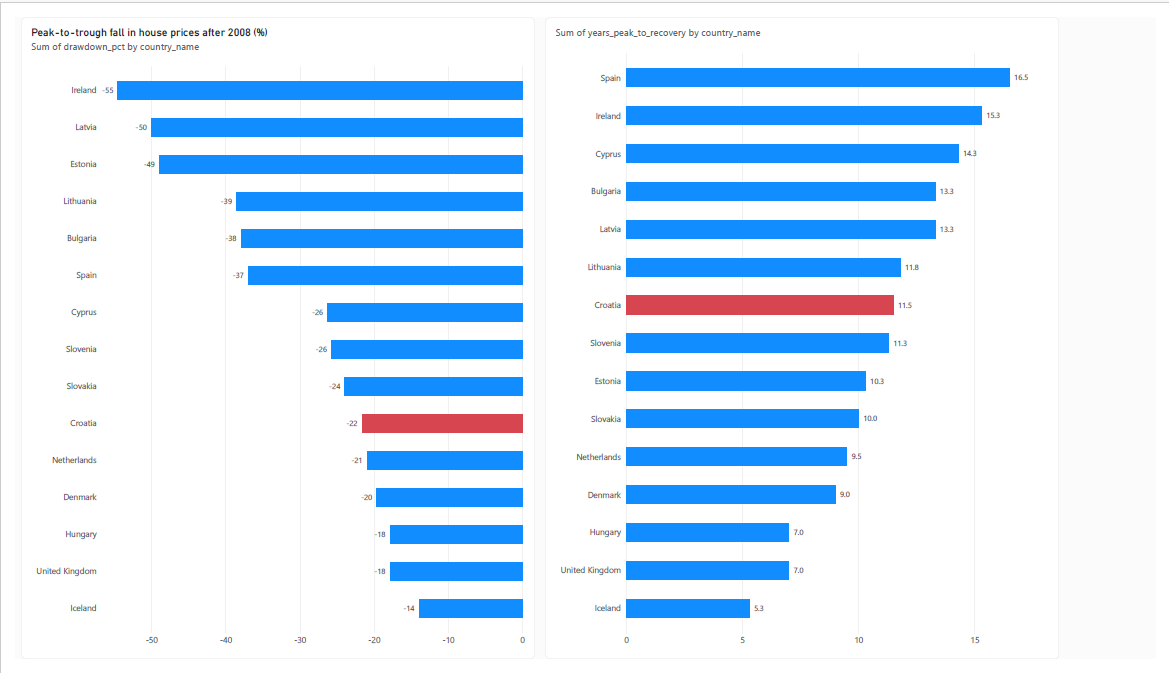

The dashboard page shown, as its layout file describes it:
{"tool":"powerbi","page":{"name":"2008 crisis","canvas":[1920,1080],"ordinal":1},"visuals":[{"type":"clusteredBarChart","title":"Peak-to-trough fall in house prices after 2008 (%)","fields":{"Category":["public v_crash_recovery.country_name"],"Y":["Sum(public v_crash_recovery.drawdown_pct)"]},"box":[10.3,0,864.5,1080.6],"z":0},{"type":"clusteredBarChart","title":"Years from the 2008 peak until prices recovered","fields":{"Category":["public v_crash_recovery.country_name"],"Y":["Sum(public v_crash_recovery.years_peak_to_recovery)"]},"box":[893.3,0,864.5,1080.6],"z":1}]}

Visuals, with their boxes in screenshot pixels (x1, y1, x2, y2), scaled from the page's 1920x1080 canvas onto the 1169x673 screenshot:
"Peak-to-trough fall in house prices after 2008 (%)" clusteredBarChart: 6, 0, 533, 672
"Years from the 2008 peak until prices recovered" clusteredBarChart: 544, 0, 1070, 672
